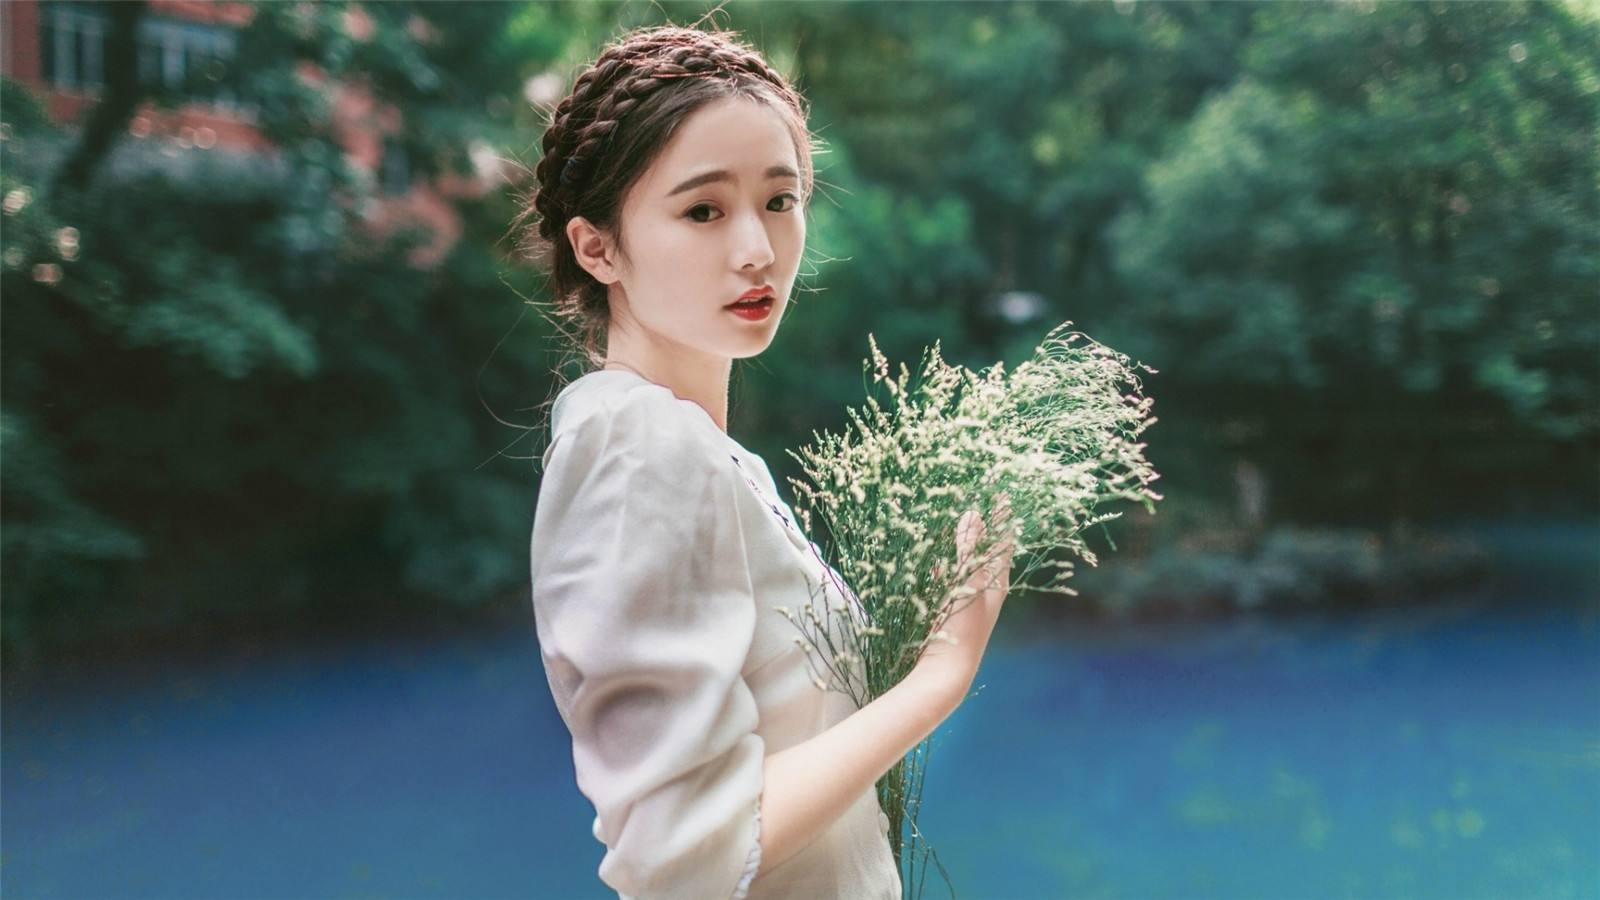person: (467, 28, 919, 851)
